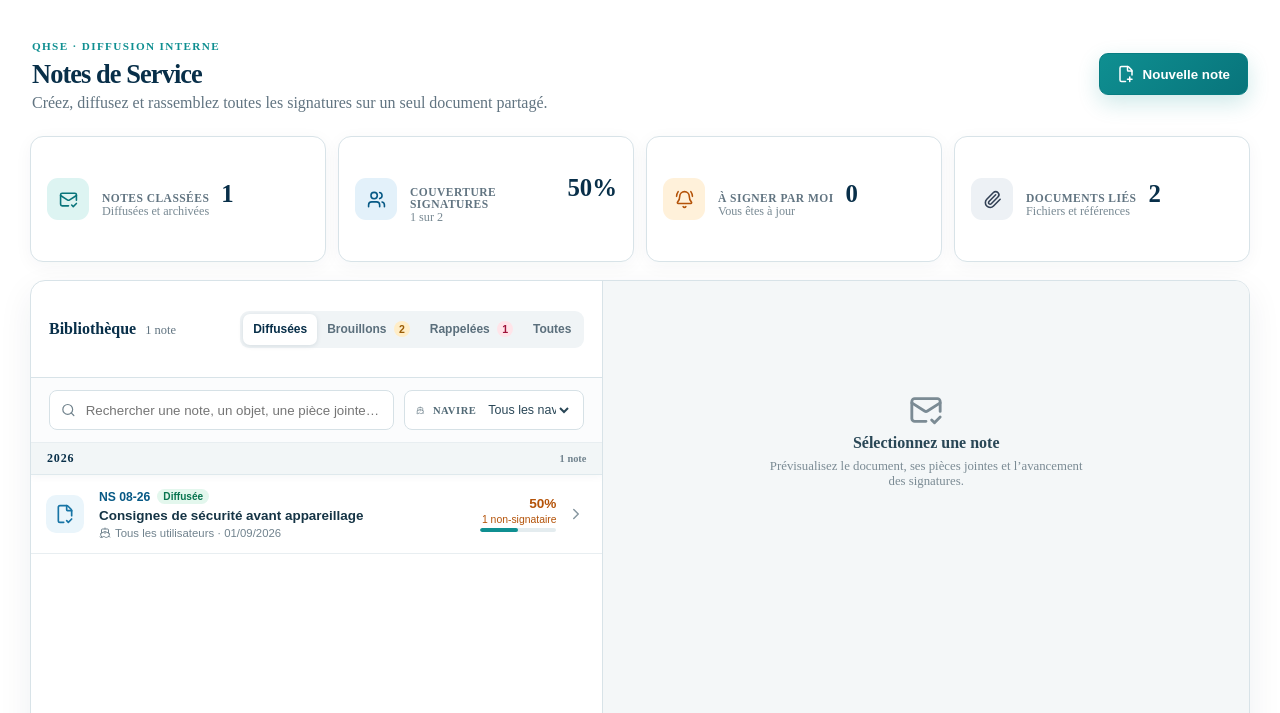
Test: ServiceNotesPage › shows the QHSE library and one common signing document
Expected: the heading "Notes de Service" is shown, [32,59,202,89]
Expected: the text "Couverture signatures" is shown, [410,186,496,210]
Click the text "NS 08-26" at (125,496), box [99,490,150,504]
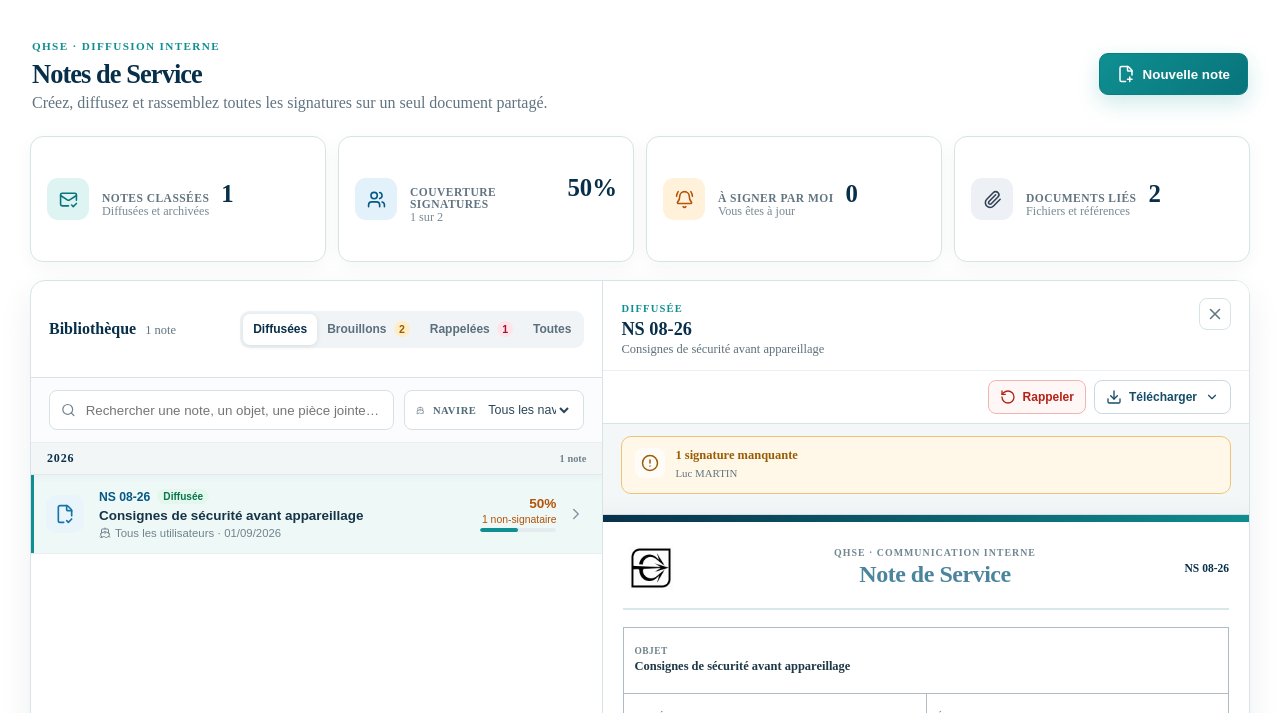
Result: the text "1 signature manquante" is shown at [676,448,798,463]
Result: the text "Luc MARTIN" is shown at [676,467,737,479]
Click the button "Télécharger" at (1162,397), box [1094,380,1231,414]
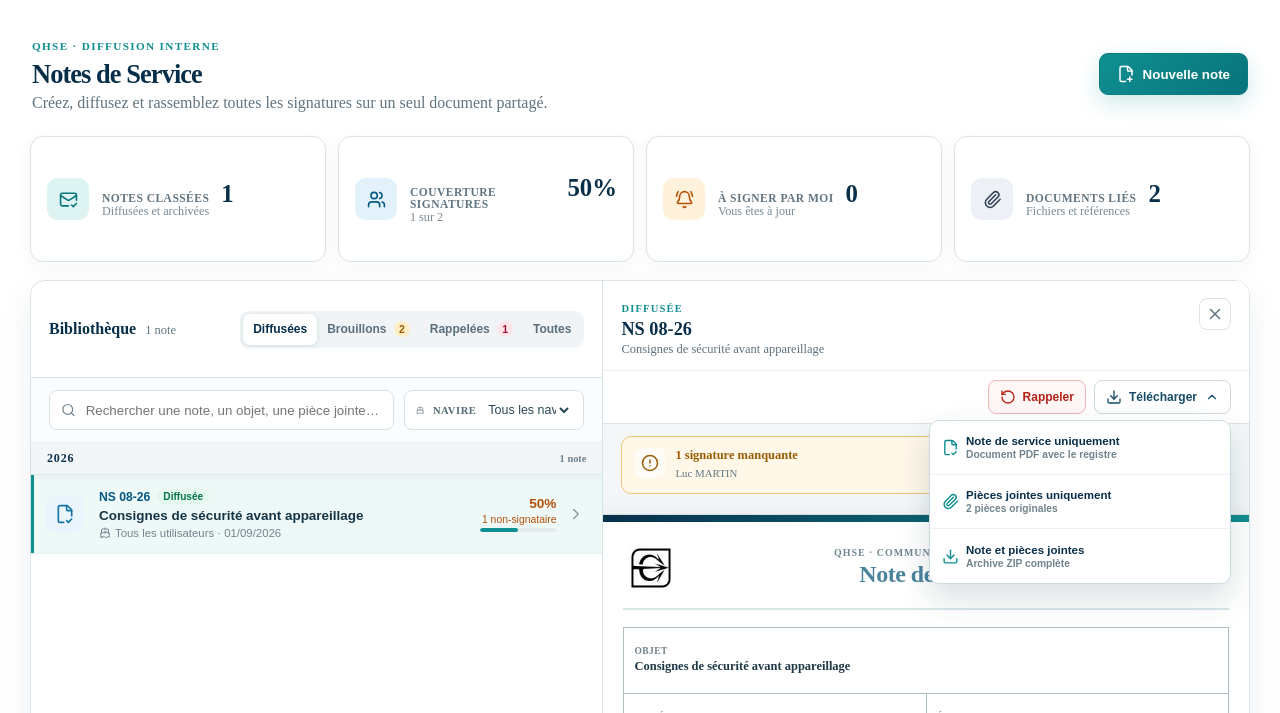
Result: the menu item "Note de service uniquement Document PDF avec le registre" is shown at [930,421,1230,475]
Result: the menu item "Pièces jointes uniquement" is shown at [930,475,1230,529]
Result: the menu item "Note et pièces jointes Archive ZIP complète" is shown at [930,529,1230,583]
